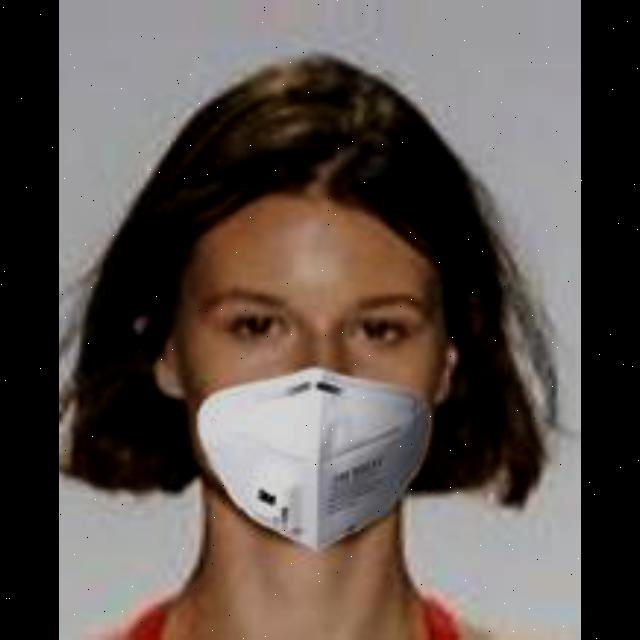suspicion: (84, 123, 456, 513)
